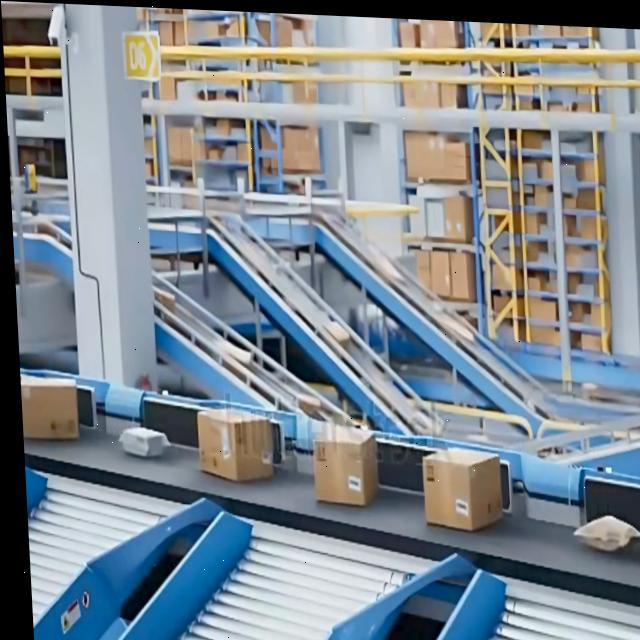product 1: (419, 444, 503, 532), (195, 405, 275, 482), (310, 421, 379, 506)
product 2: (116, 423, 170, 458)
